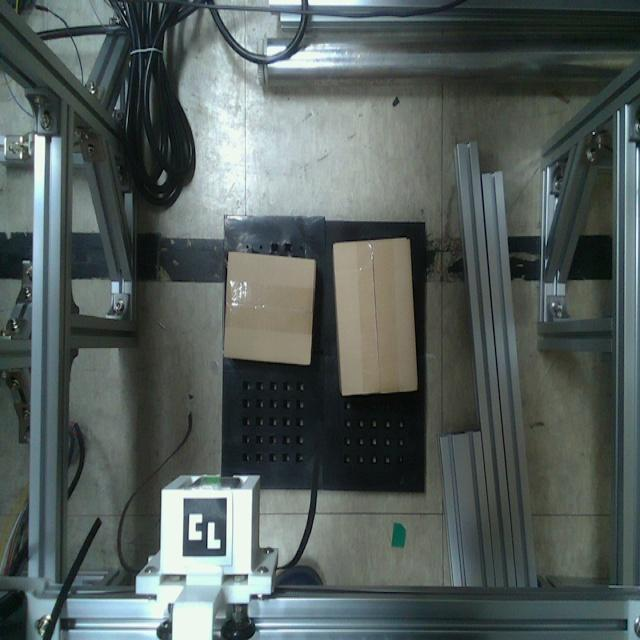box: (328, 229, 422, 400), (221, 248, 318, 372)
